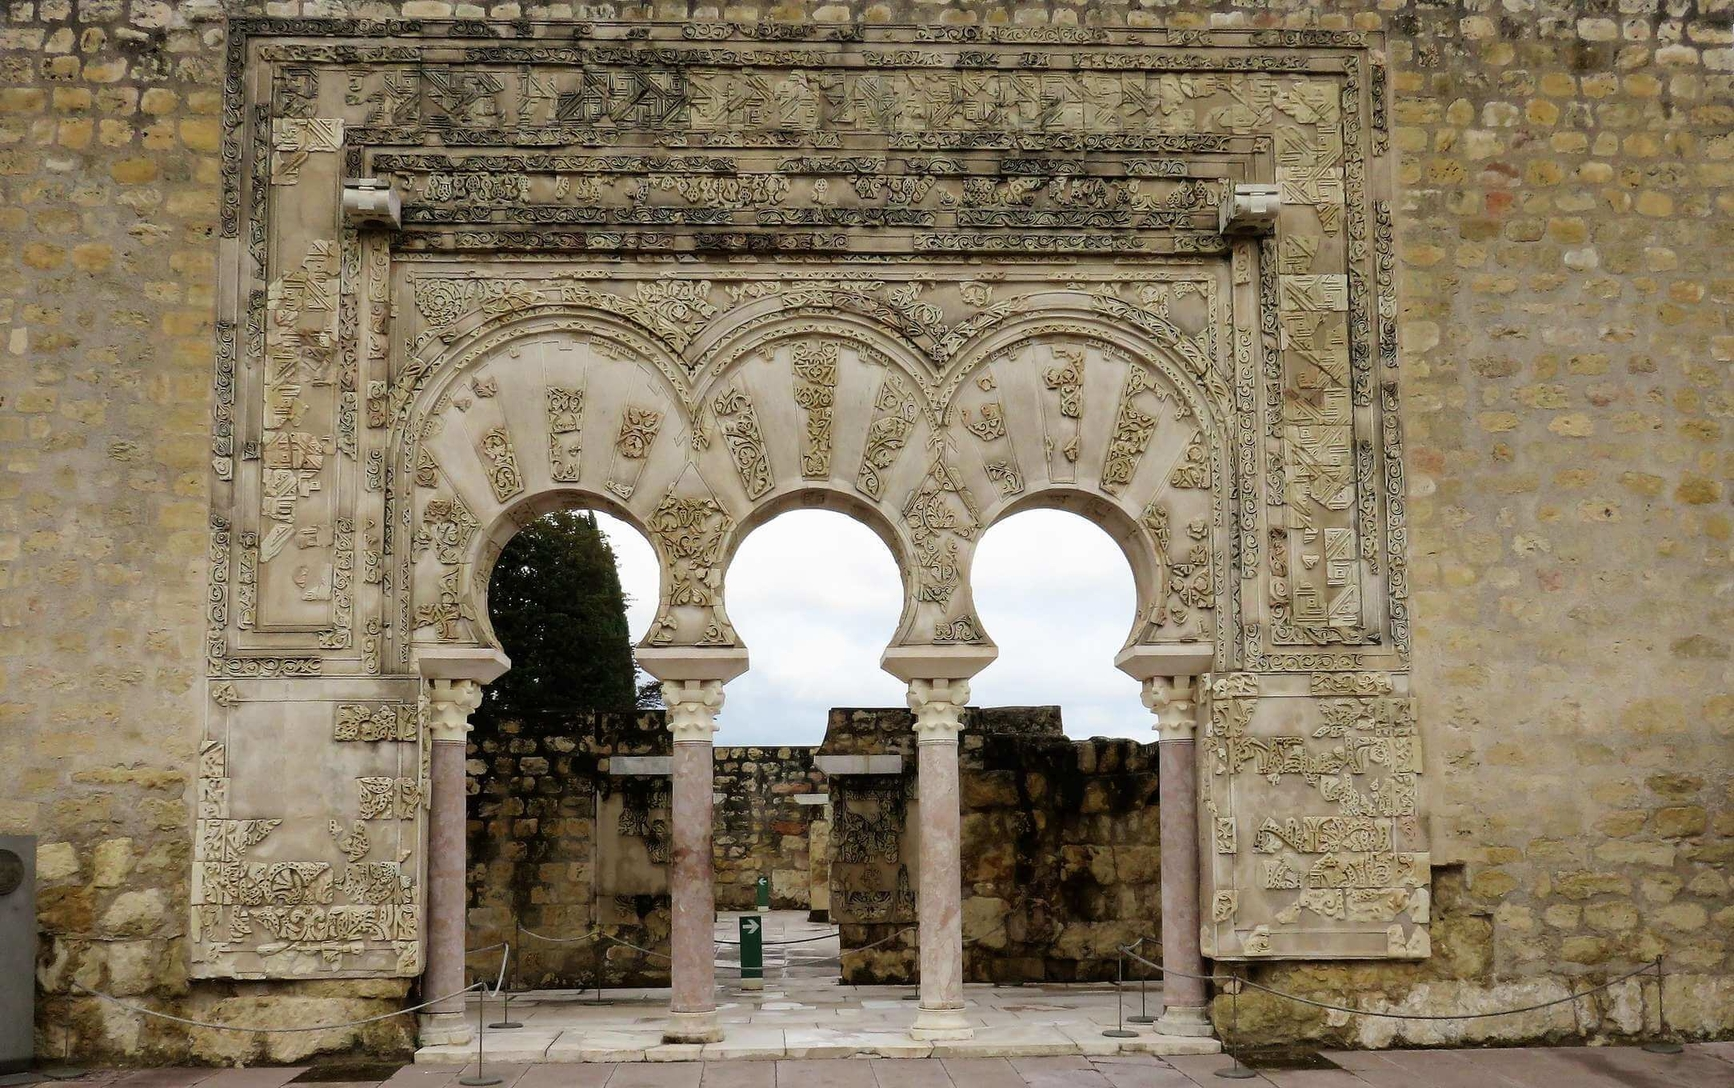arco-herradura: (688, 473, 938, 730), (439, 475, 692, 719), (933, 473, 1180, 722)
